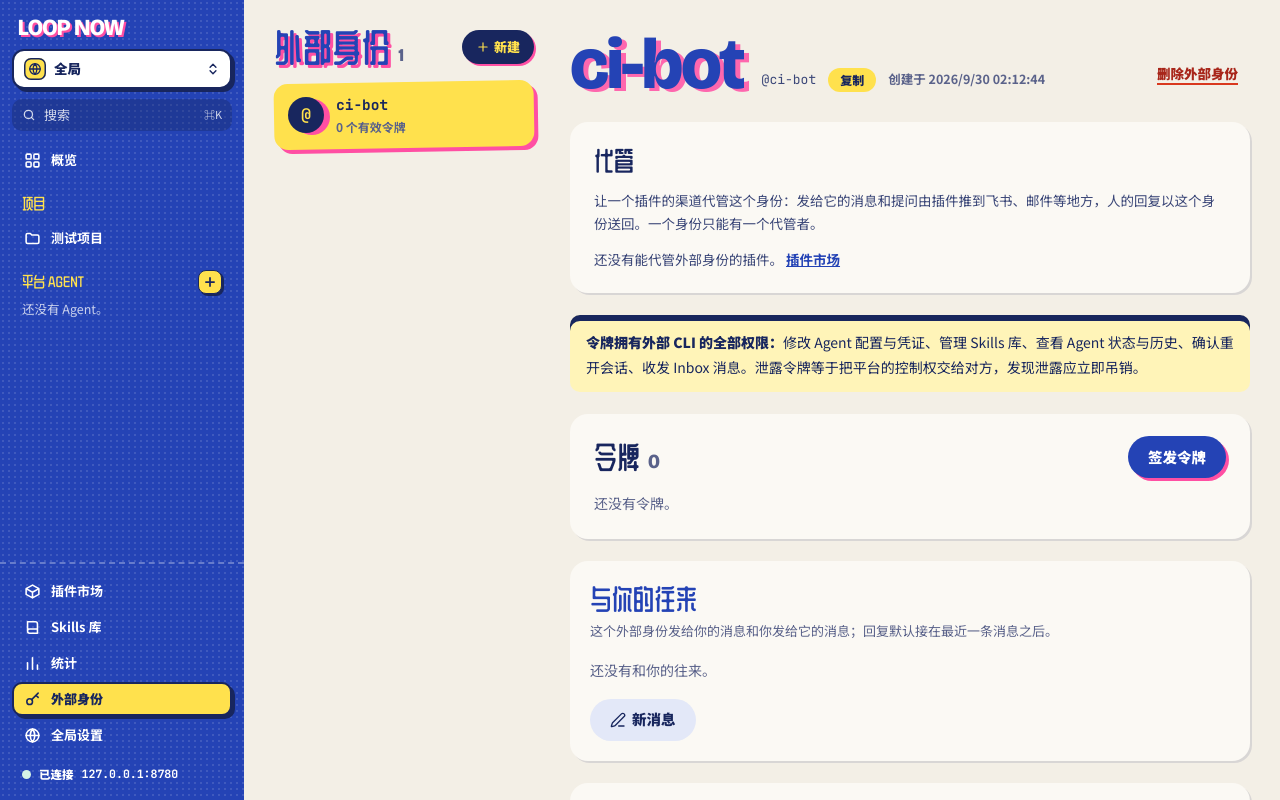
Test: 创建外部身份 › 名称重复：在名称旁显示原因，填写的内容保持不变
The width and height of the screenshot is (1280, 800).
Expected: the heading "外部身份1" is shown, left=274, top=28, right=404, bottom=66
Click the button "新建" at (498, 47), box left=462, top=30, right=534, bottom=64
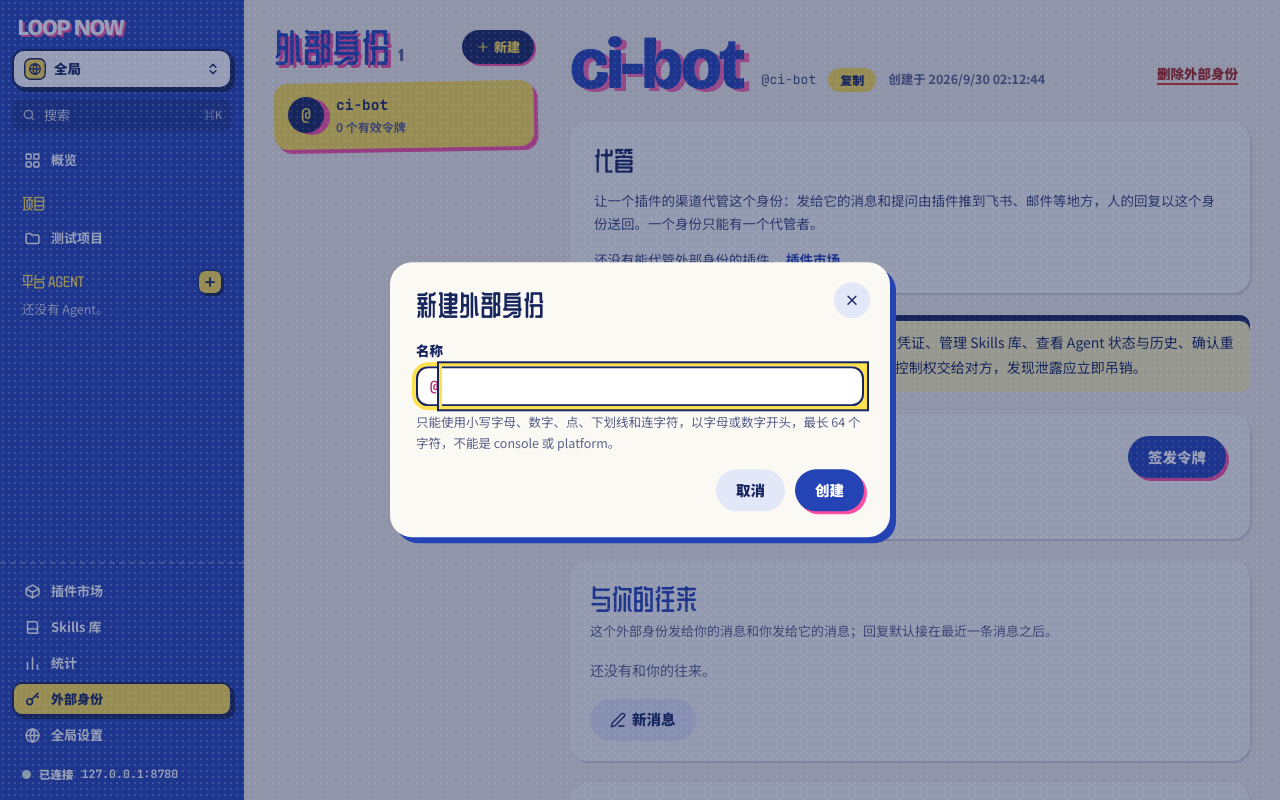
Type "ci-bot" into the field labelled "名称" at (653, 386), box left=442, top=366, right=864, bottom=406
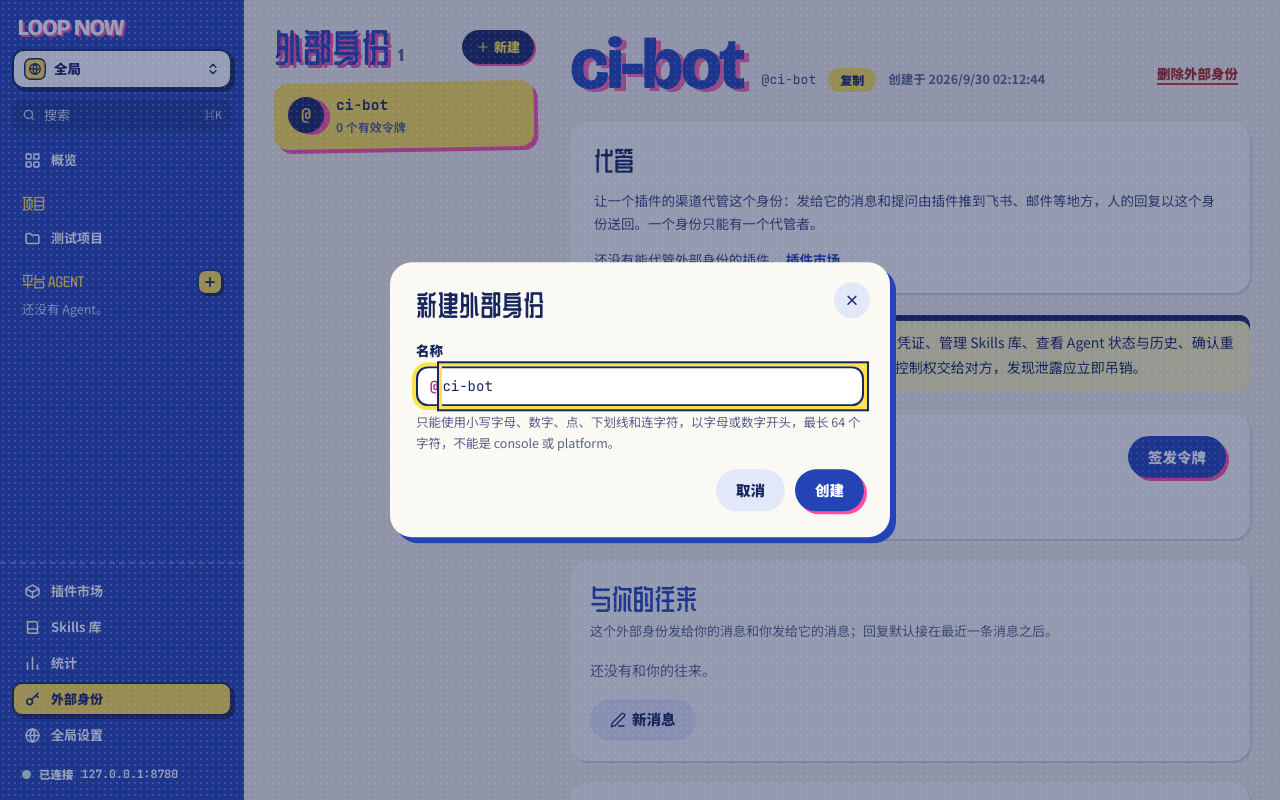
Click the button "创建" at (830, 491), box left=795, top=470, right=864, bottom=512
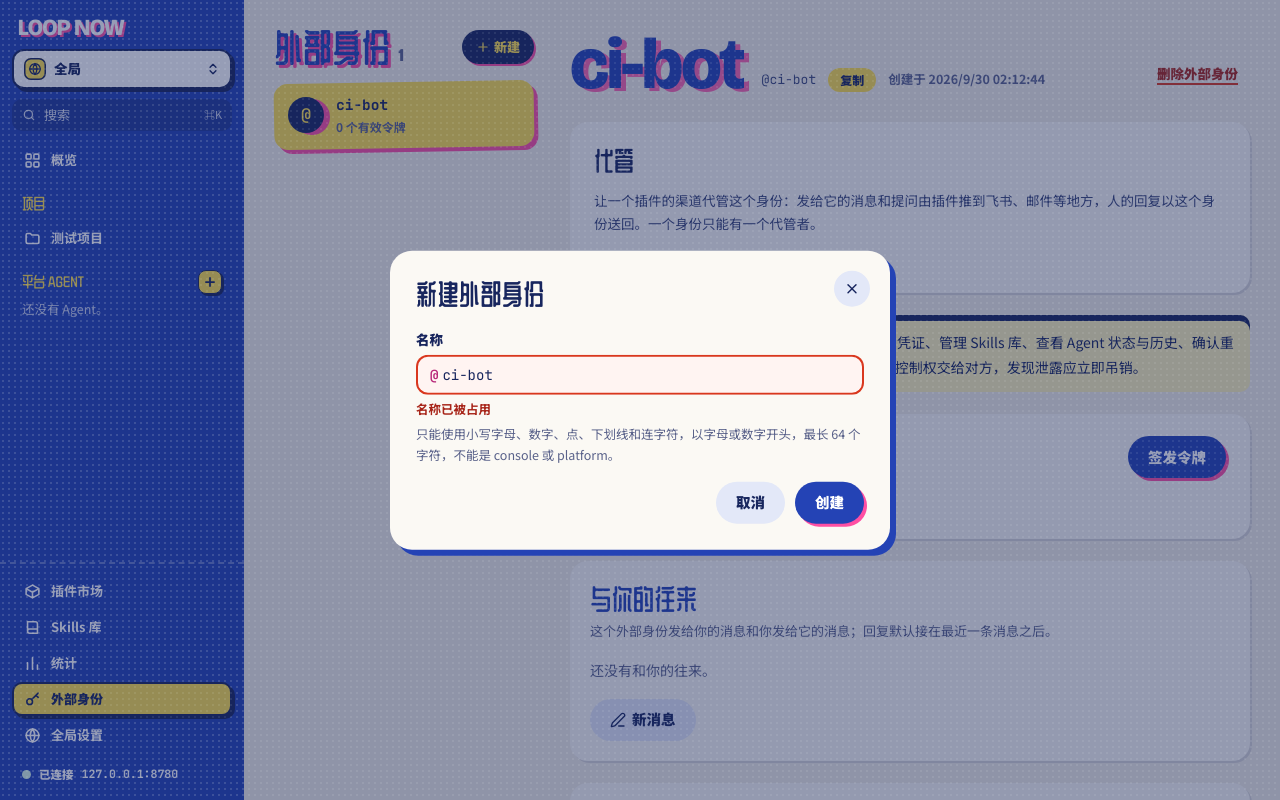
Expected: the message reads "名称已被占用", left=416, top=401, right=491, bottom=417
